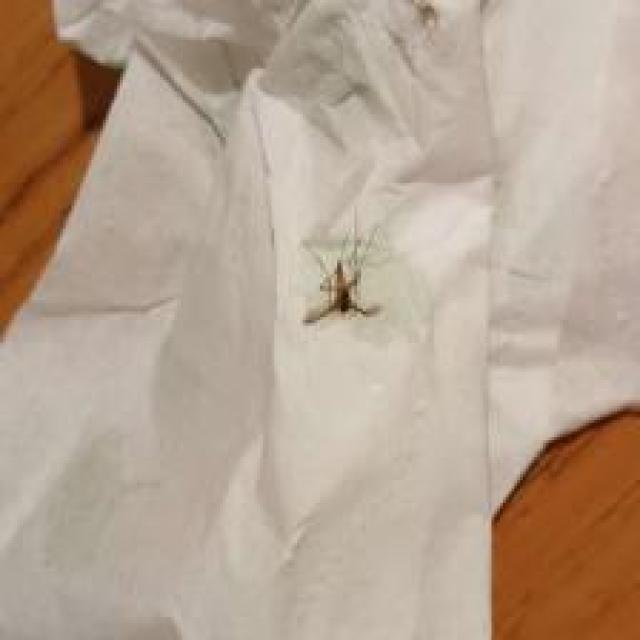Culex: (299, 206, 390, 326)
